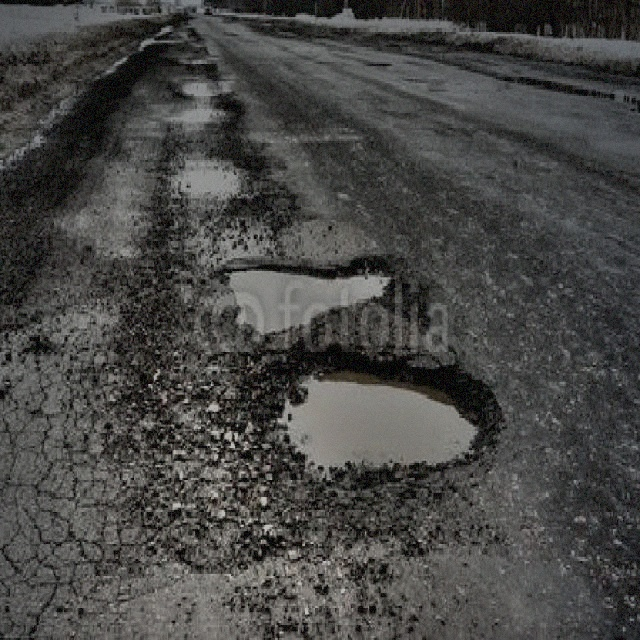pothole: (256, 339, 502, 482), (217, 250, 400, 337), (168, 151, 242, 205), (171, 100, 231, 124), (178, 77, 227, 96)
